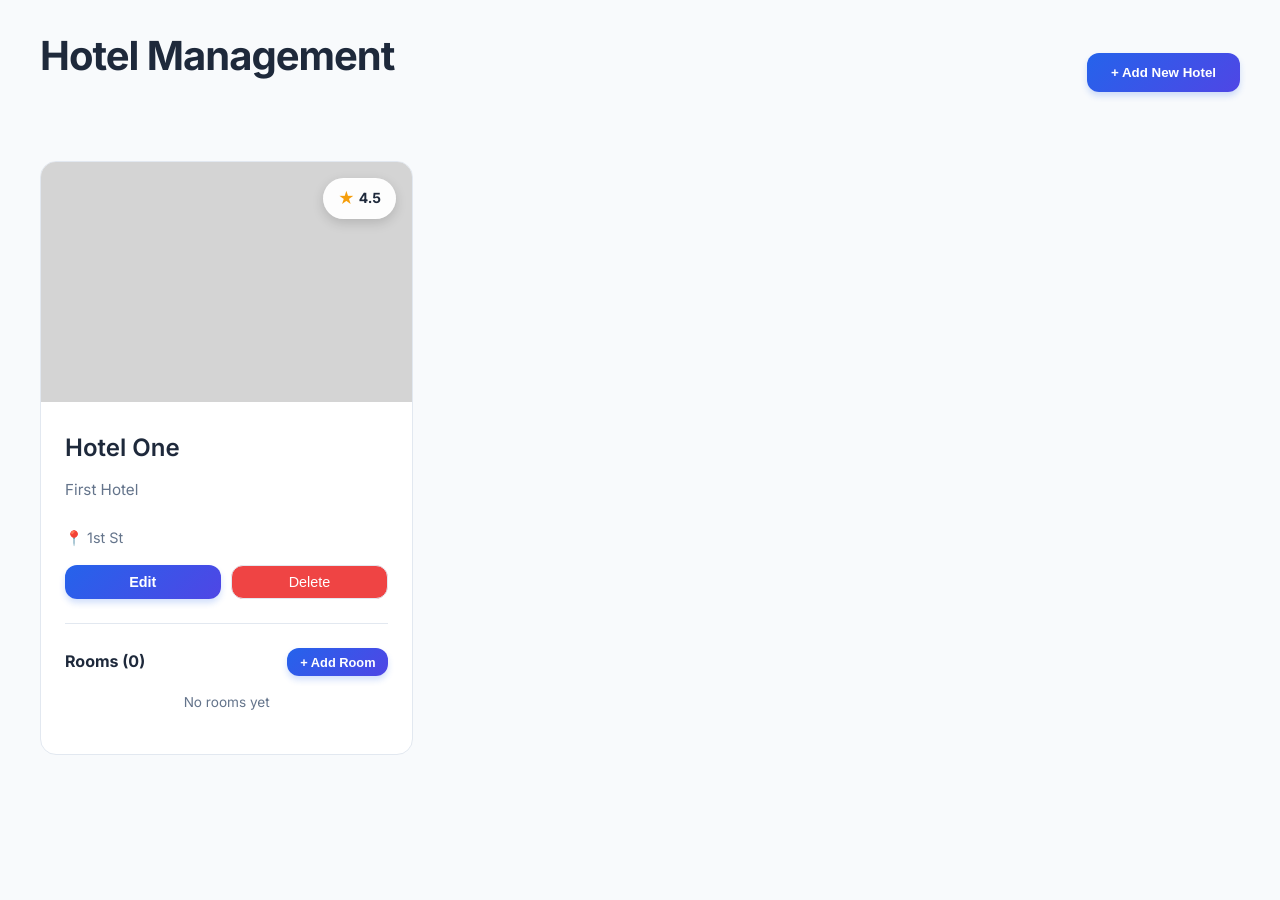
it: AdminDashboard Component › deletes a hotel
Click the button "Delete": (310, 582) [231,565,388,599]
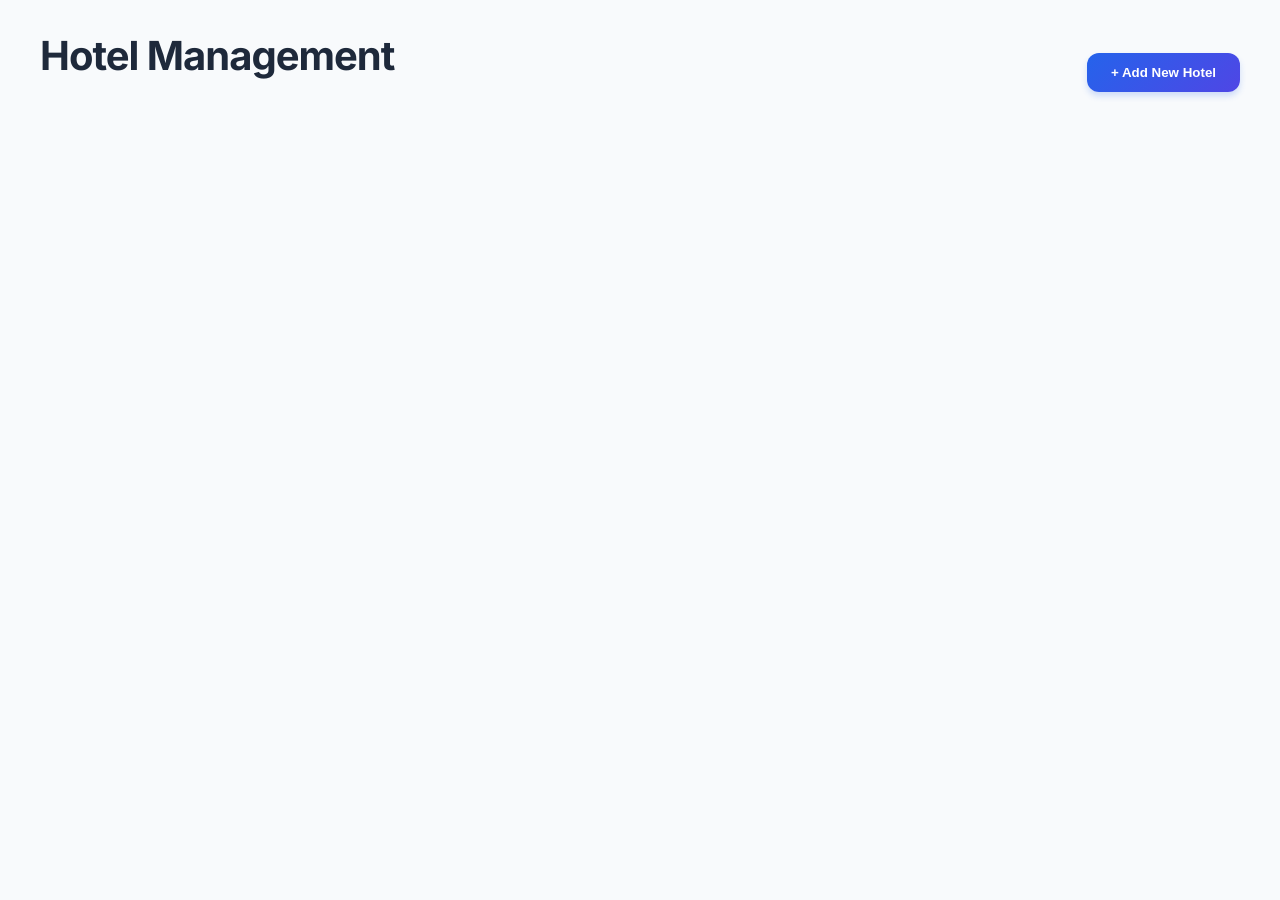
Result: the heading "Hotel One" is gone
